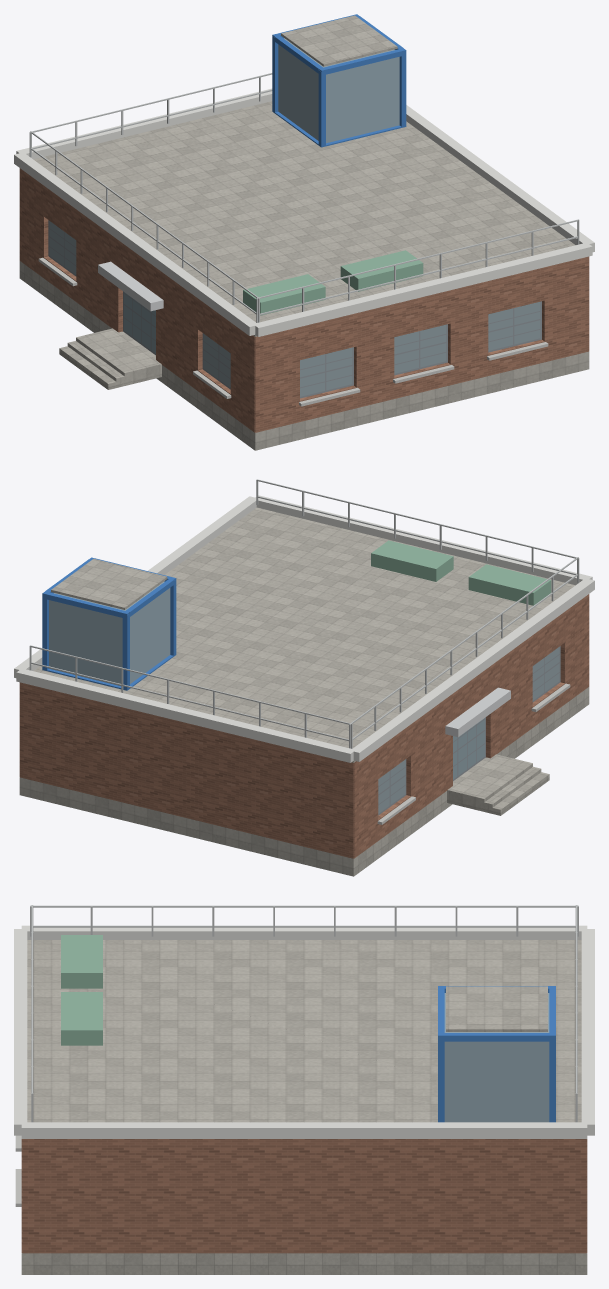
3 views of the same model, one above another, from view 1: azimuth 30°, elevation 25°; view 2: azimuth 150°, elevation 25°; view 3: azimuth 270°, elevation 25° (orthographic). The views are drawn at different scales.
Parts seen in each view (by area): view 1: south-terrace__stone, south-terrace__brick, south-terrace__cap, south-terrace__stairglass, south-terrace__sideglass, south-terrace__steel, south-terrace__greenroof, south-terrace__blue, south-terrace__frame, south-terrace__stair-west, south-terrace__threshold-west, south-terrace__sill (+2 smaller); view 2: south-terrace__stone, south-terrace__brick, south-terrace__cap, south-terrace__stairglass, south-terrace__steel, south-terrace__greenroof, south-terrace__blue, south-terrace__stair-west, south-terrace__threshold-west, south-terrace__sideglass, south-terrace__entrance, south-terrace__glass (+2 smaller); view 3: south-terrace__stone, south-terrace__brick, south-terrace__cap, south-terrace__stairglass, south-terrace__steel, south-terrace__greenroof, south-terrace__blue.
Part boxes in pixels (x1,y1,x2,y2): south-terrace__stone: [19, 15, 589, 450]; south-terrace__brick: [19, 168, 589, 432]; south-terrace__cap: [14, 88, 594, 336]; south-terrace__stairglass: [278, 38, 399, 143]; south-terrace__sideglass: [49, 221, 540, 396]; south-terrace__steel: [29, 73, 579, 322]; south-terrace__greenroof: [243, 250, 423, 315]; south-terrace__blue: [272, 14, 406, 147]; south-terrace__frame: [48, 220, 541, 398]; south-terrace__stair-west: [59, 335, 132, 389]; south-terrace__threshold-west: [84, 328, 161, 383]; south-terrace__sill: [38, 257, 548, 406]; south-terrace__stone: [19, 507, 589, 876]; south-terrace__brick: [19, 594, 589, 858]; south-terrace__cap: [14, 495, 594, 762]; south-terrace__stairglass: [49, 581, 170, 685]; south-terrace__steel: [29, 479, 579, 748]; south-terrace__greenroof: [371, 540, 551, 605]; south-terrace__blue: [42, 557, 176, 690]; south-terrace__stair-west: [476, 761, 549, 815]; south-terrace__threshold-west: [447, 754, 524, 809]; south-terrace__sideglass: [378, 647, 559, 813]; south-terrace__entrance: [445, 687, 510, 737]; south-terrace__glass: [453, 718, 484, 779]; south-terrace__stone: [21, 940, 587, 1274]; south-terrace__brick: [21, 1139, 587, 1253]; south-terrace__cap: [14, 925, 594, 1138]; south-terrace__stairglass: [444, 993, 549, 1122]; south-terrace__steel: [30, 905, 578, 1122]; south-terrace__greenroof: [61, 935, 102, 1045]; south-terrace__blue: [438, 986, 555, 1122].
Bounding box in the file's own units: 18.13 × 8.68 × 19.32.
12 materials, 2 textured.
